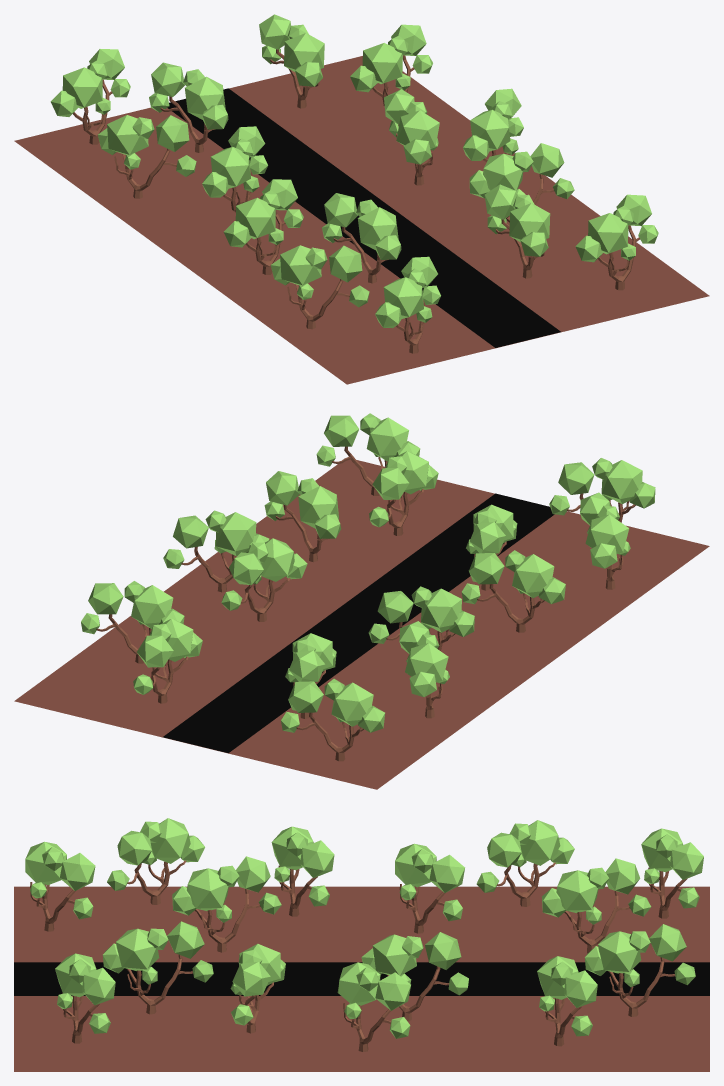
The model's file is enviroment2.fbx.
3 renders of one model, top to bottom at view 1: azimuth 30°, elevation 25°; view 2: azimuth 150°, elevation 25°; view 3: azimuth 270°, elevation 25°, orthographic. The views are drawn at different scales.
Parts seen in each view (by area): view 1: enviroment; view 2: enviroment; view 3: enviroment.
Part boxes in pixels (x1,y1,x2,y2): enviroment: (14, 14, 709, 384); enviroment: (14, 413, 709, 789); enviroment: (14, 818, 709, 1071).
Size of the model in its own units: 12369 by 2654 by 19648.
